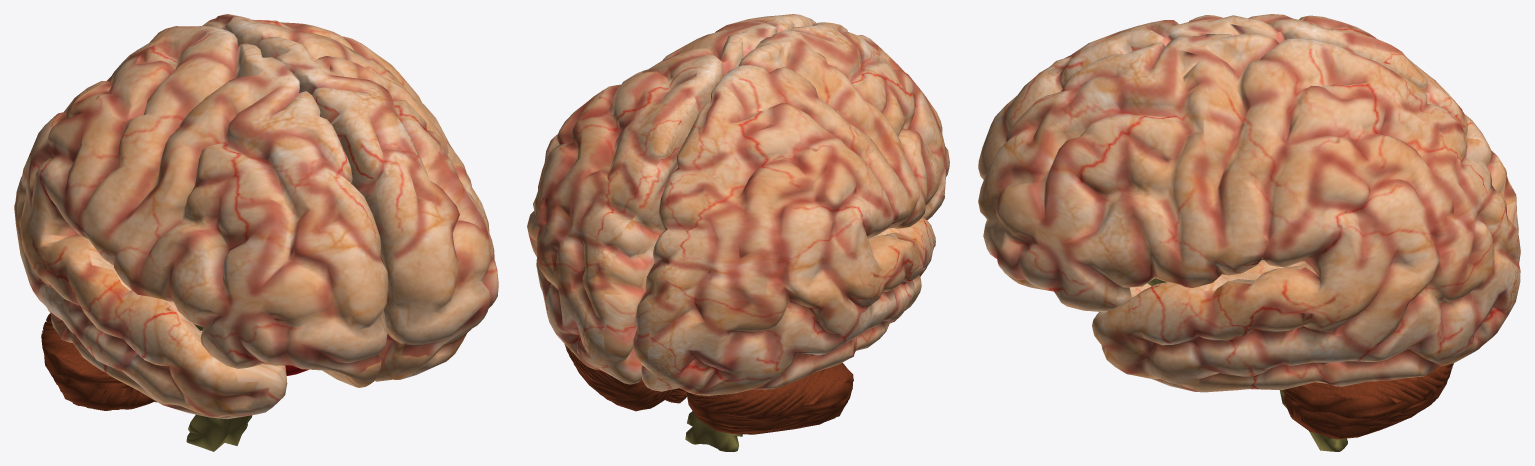
The model's file is BrainDVQ.glb.
3 renders of one model, left to right at view 1: azimuth 30°, elevation 25°; view 2: azimuth 150°, elevation 25°; view 3: azimuth 270°, elevation 25°, orthographic. The views are drawn at different scales.
Parts seen in each view (by area): view 1: Brain; view 2: Brain; view 3: Brain.
Boxes of the visible parts, x1,y1,x2,y2 form: Brain: [14, 14, 498, 451]; Brain: [527, 14, 949, 451]; Brain: [978, 14, 1520, 451].
Size of the model in its own units: 3.18 by 3.38 by 3.96.
Materials: 1 (1 with a texture image).
